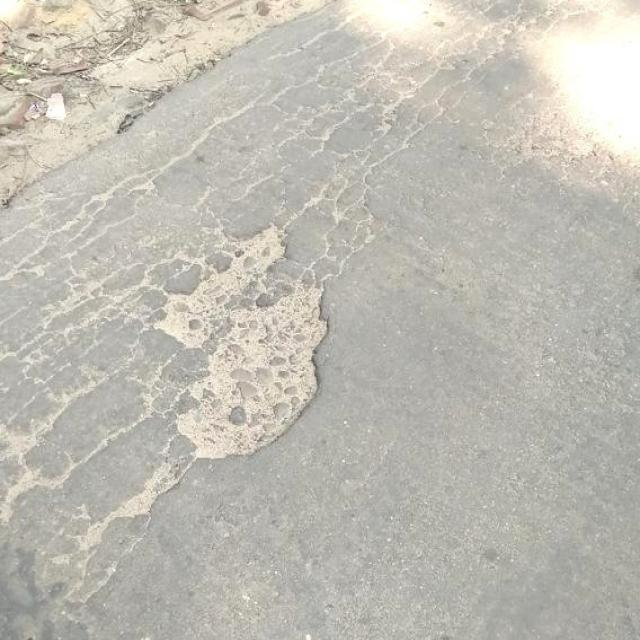road-pothole: (173, 284, 325, 465), (142, 215, 306, 352)
